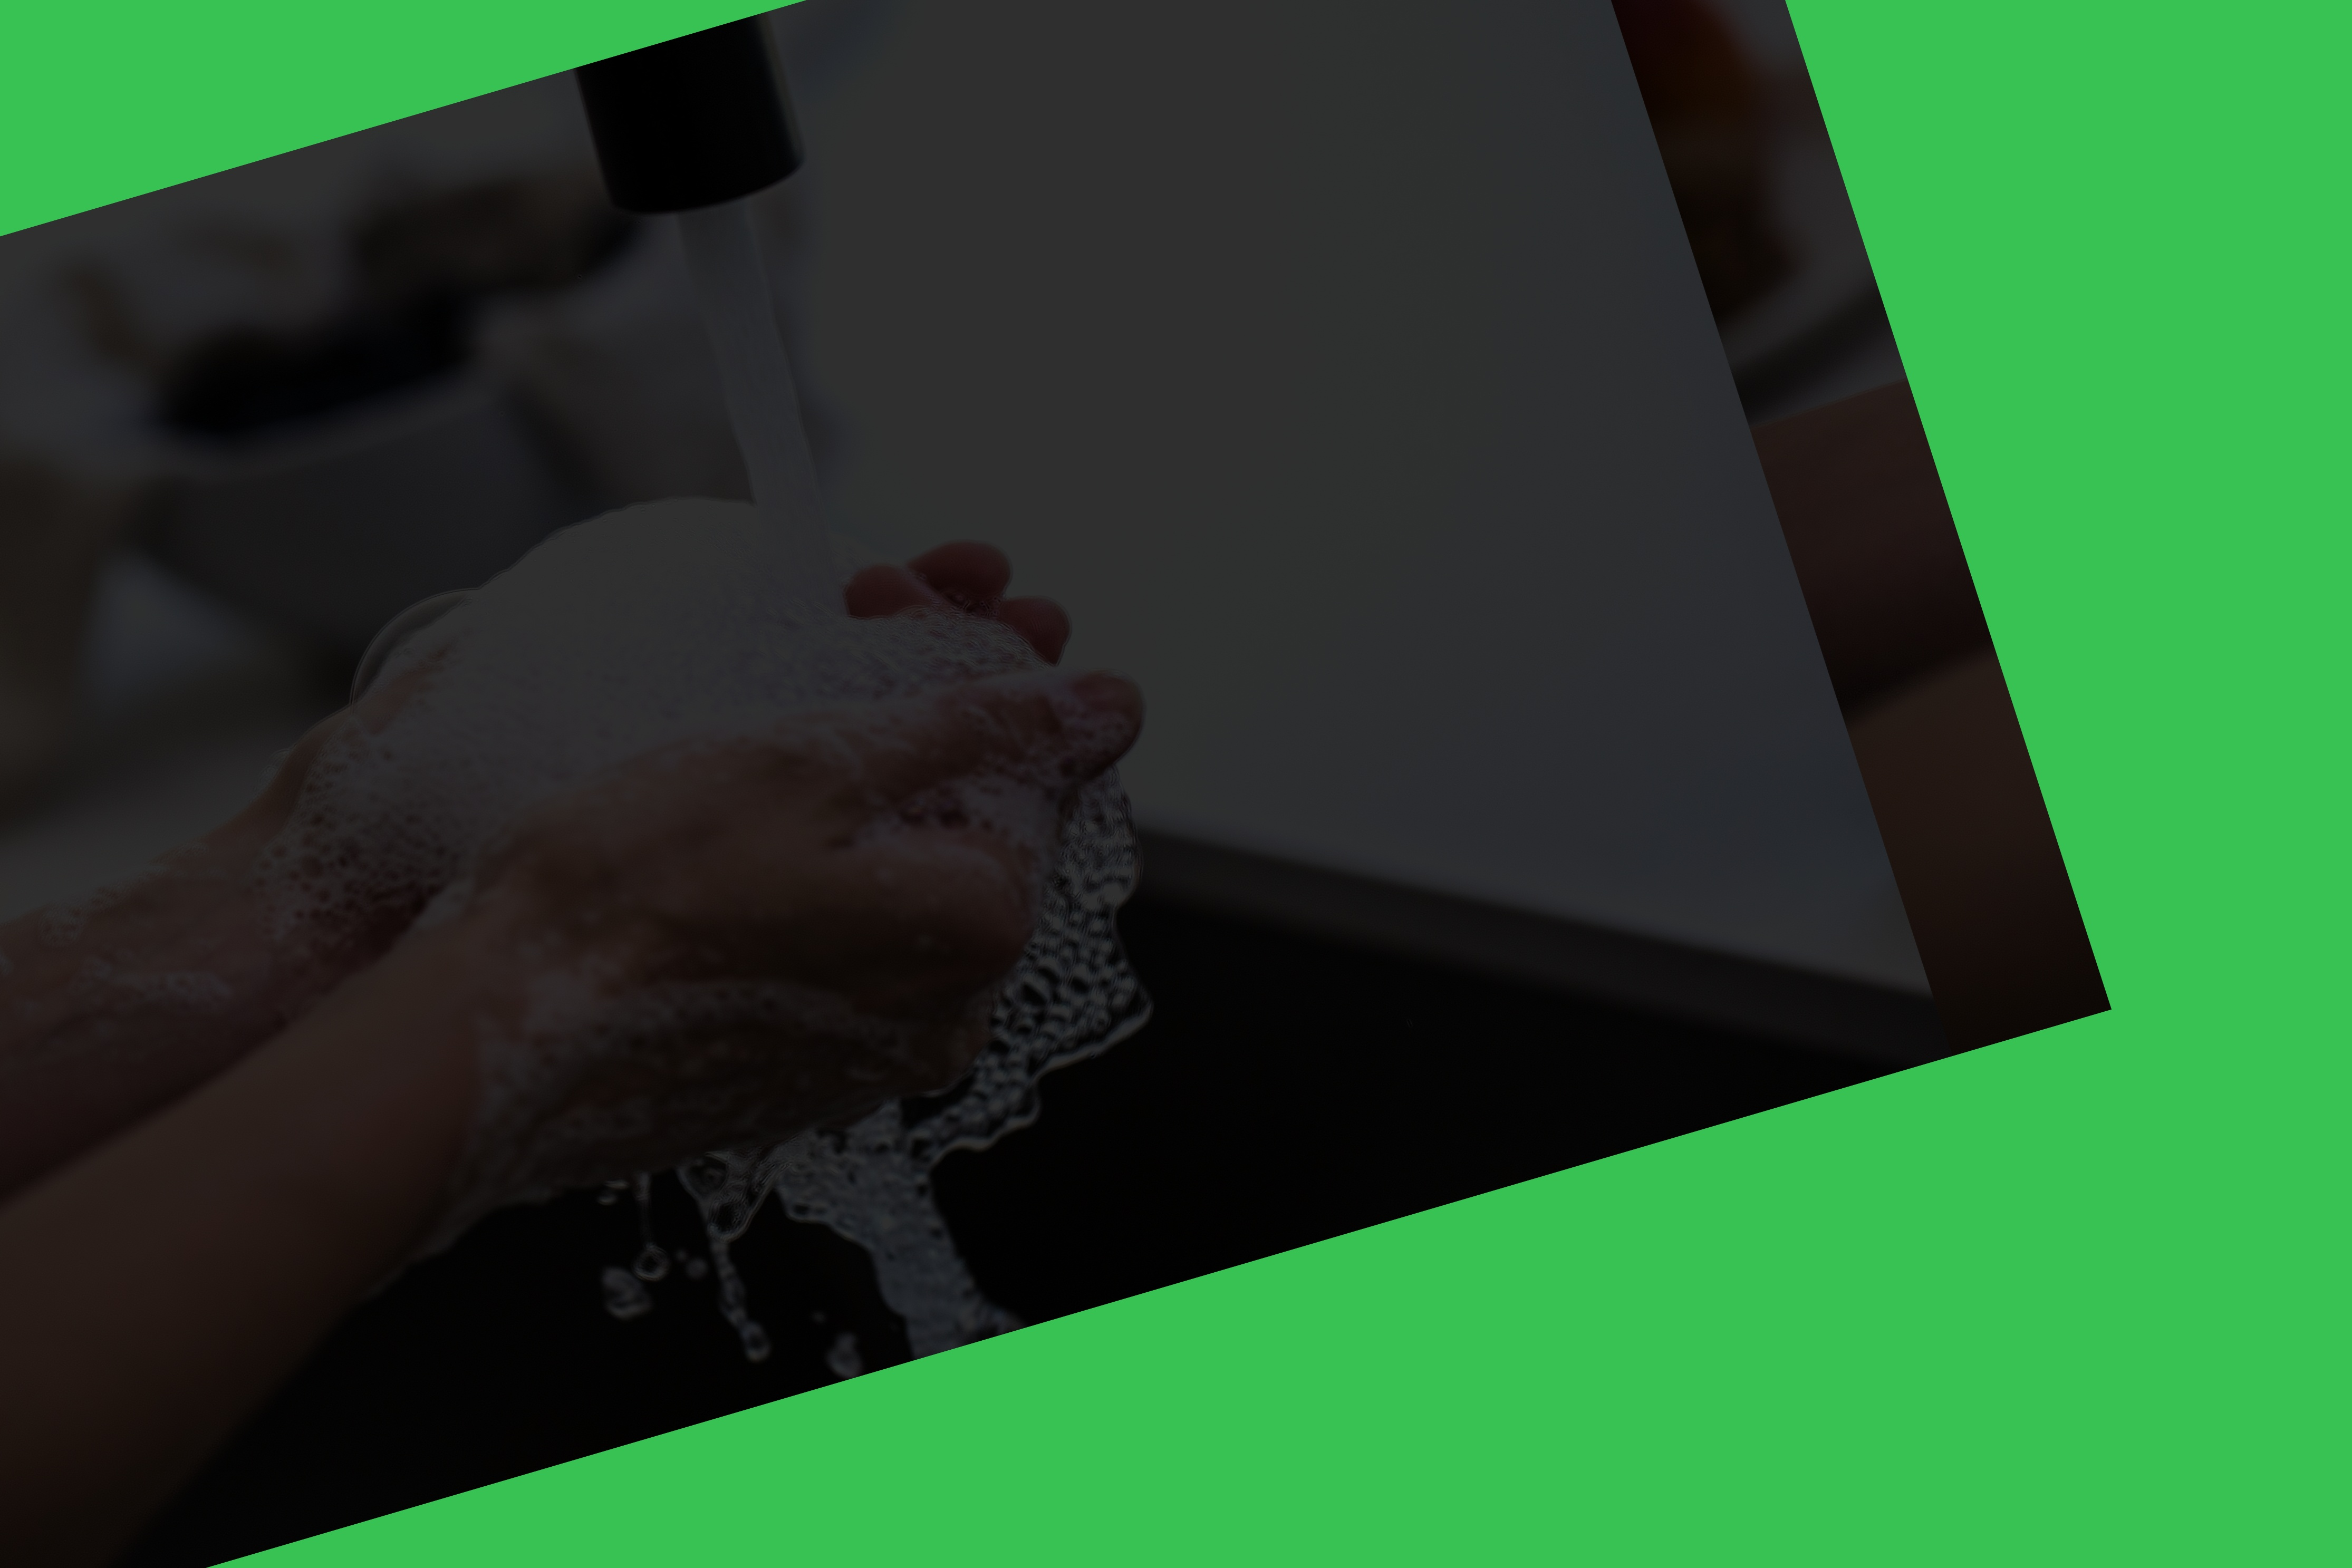washing hand: (0, 0, 1561, 1375)
